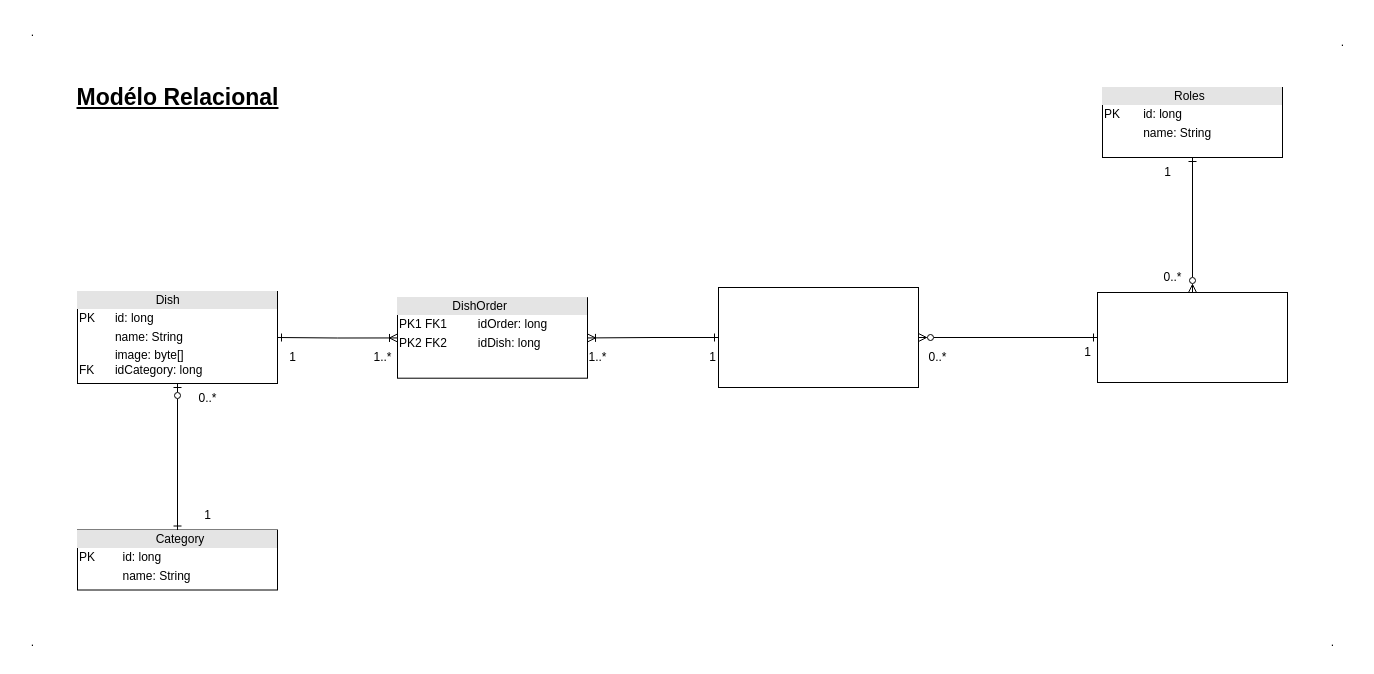
This 1374x674 diagram has some shape labels left out. Here are the shapes that lost their labels. From the top down, the centre of each, then its label:
At point (818, 337): "Order PK id: long FK1 idUser: long date: Date".
At point (1192, 337): "User PK id: long username: String FK1 email: String idRole: long".
